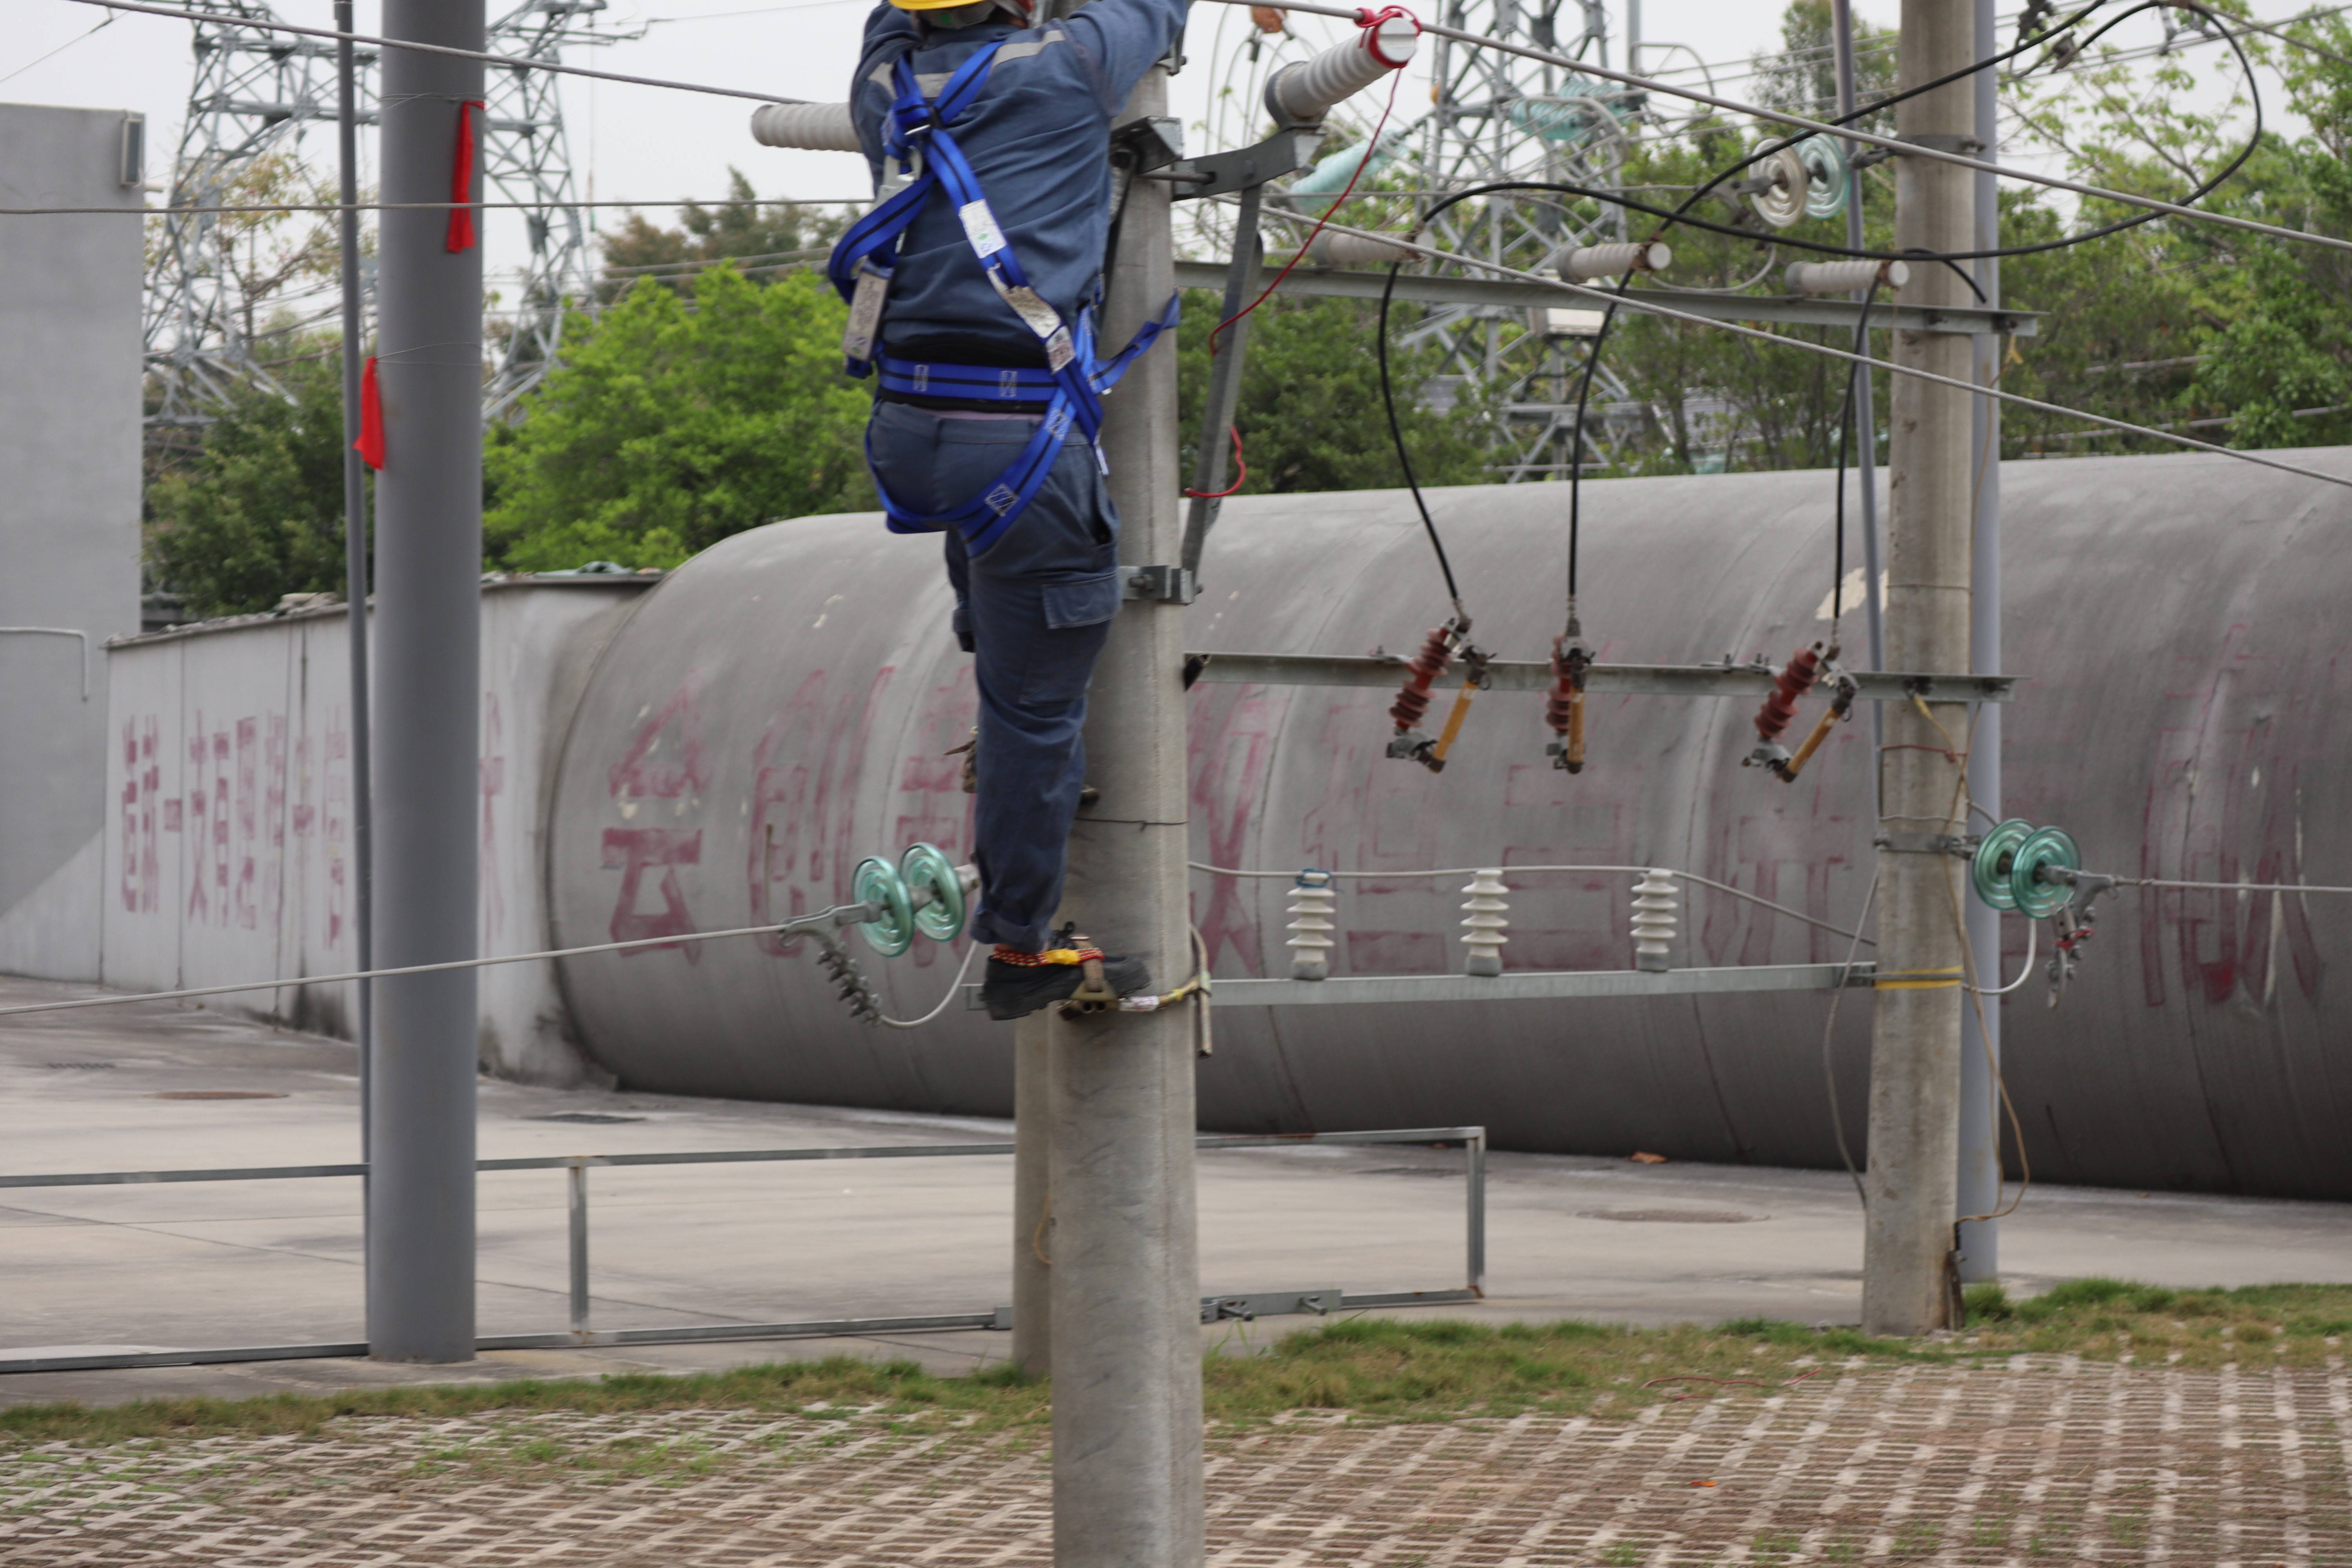downsuit: (866, 402, 1106, 976)
upsuit: (843, 37, 1153, 359)
